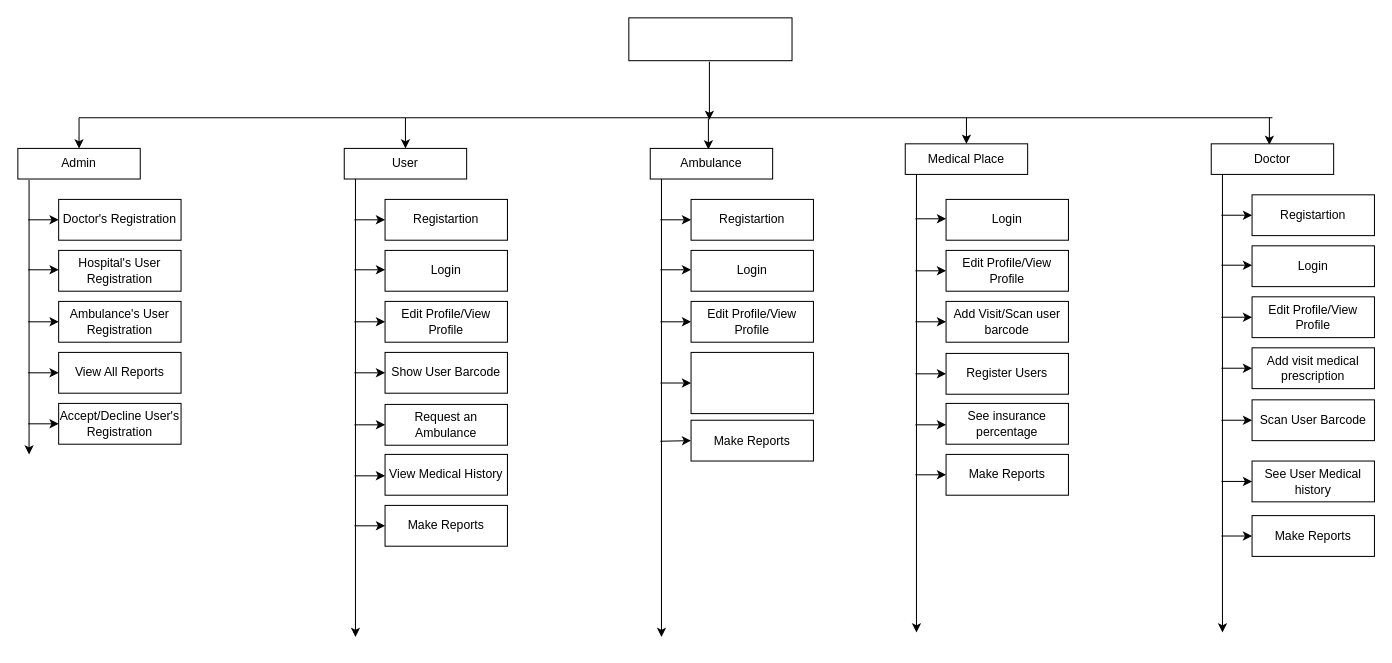
This 1392x663 diagram has some shape labels left out. Each missing label, with the centre of its shape:
"Healthy Shield" goes at point 710,39.
"View User Requests/View User's Medical details" goes at point 751,382.
